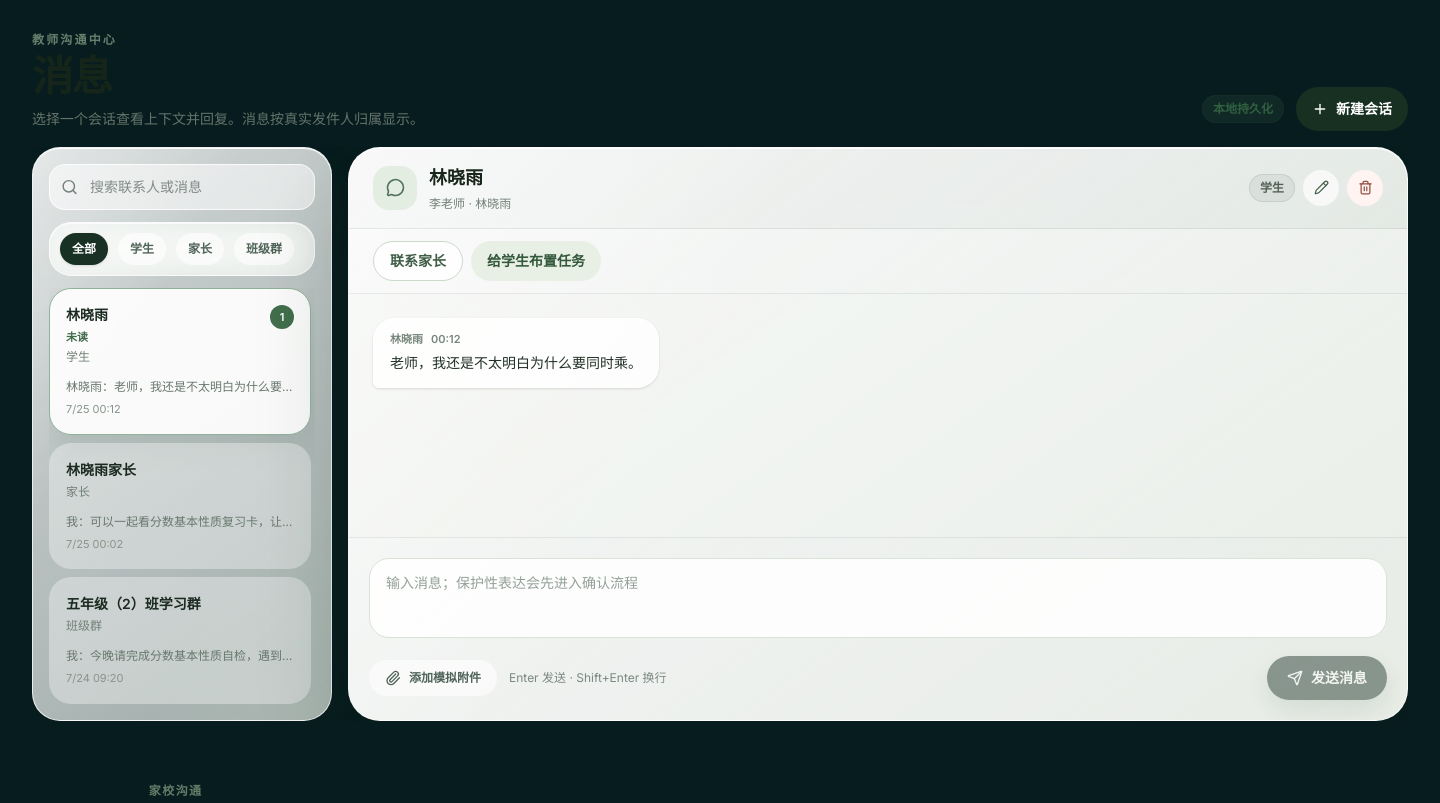
Test: MessagesPage › shows a teacher message to the linked guardian in the parent conversation
Click the button "联系家长": (418, 261) [373,241,463,281]
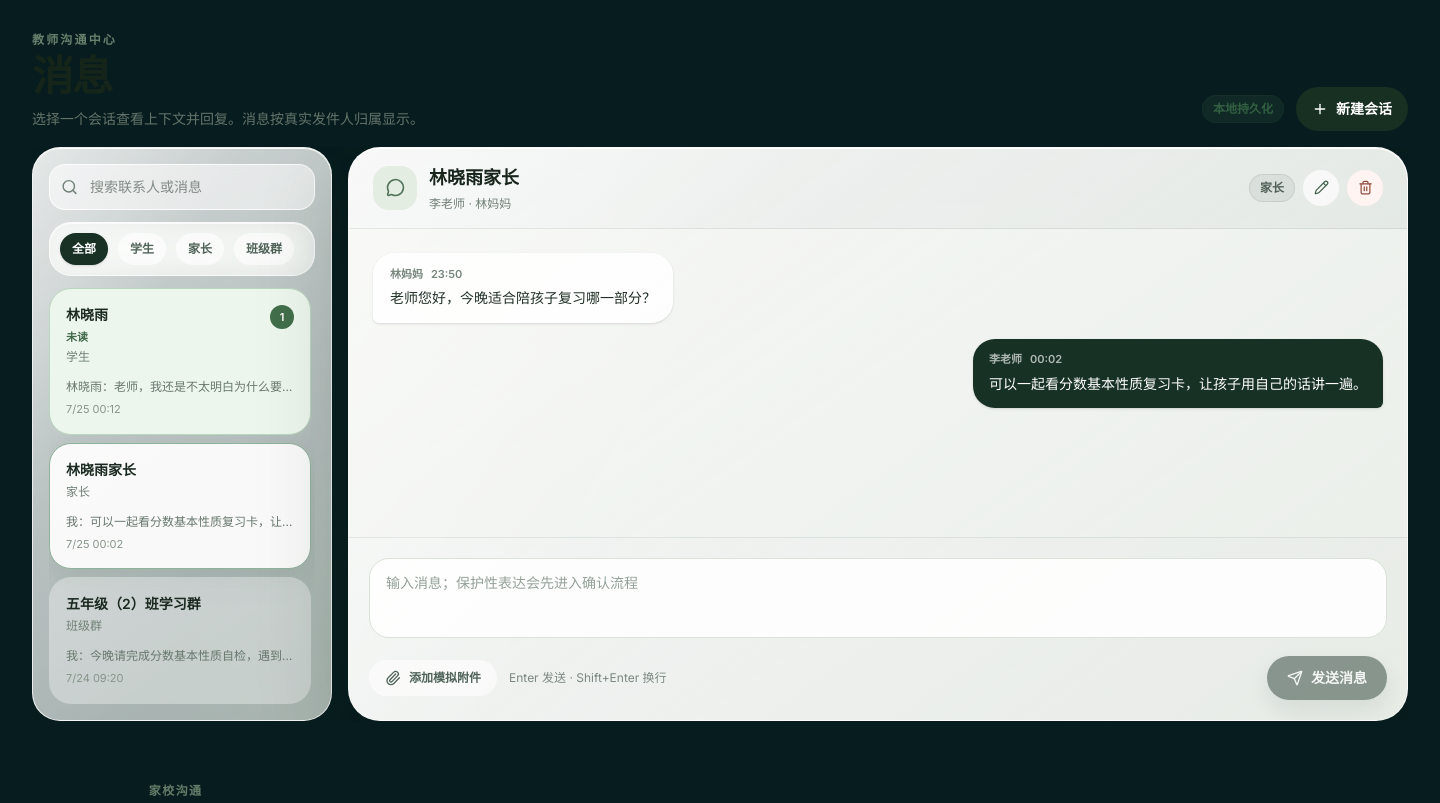
Result: the heading "林晓雨家长" is shown at [429,164,519,192]
In the text box labelled "输入消息": (878, 598) [369,558,1387,638], type "今晚请和孩子复习分数基本性质。"
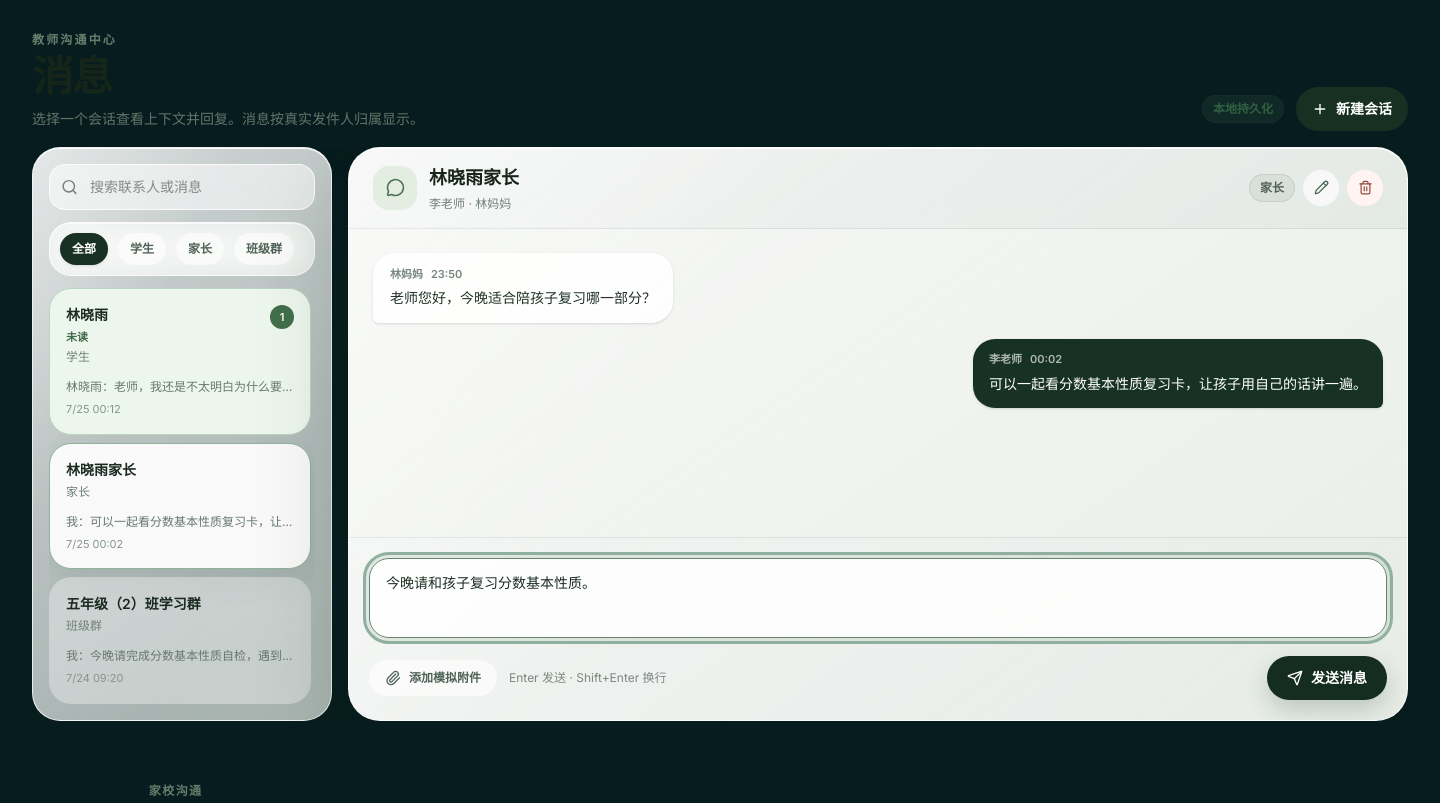
Click the button "发送消息": (1327, 678) [1267,656,1387,700]
(page scrolled)
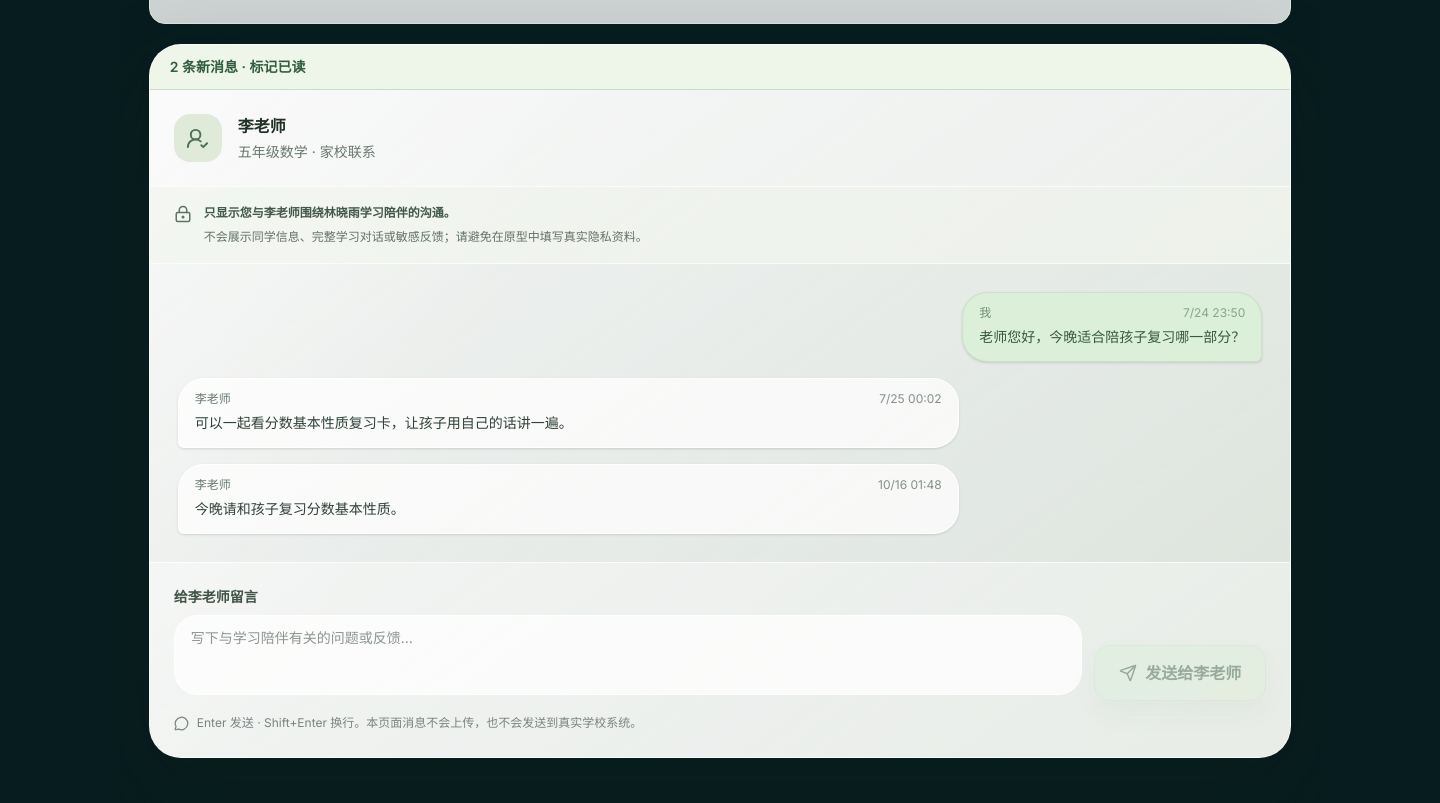
Result: the text "今晚请和孩子复习分数基本性质。" is shown at [195,500,405,517]
